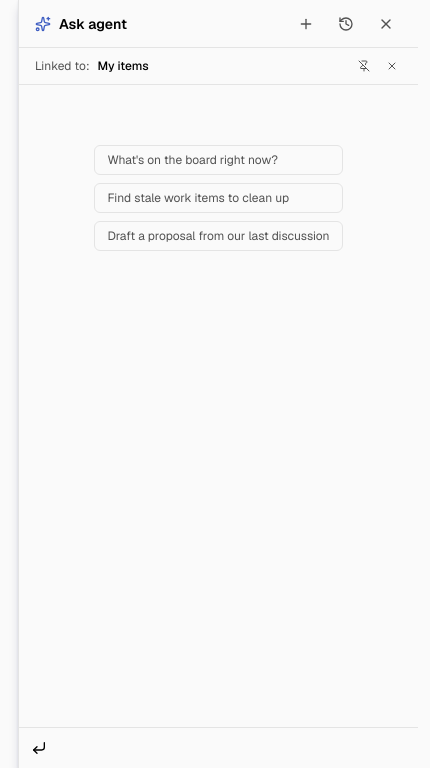
Test: AgentChatPanel › clears the thread list on remount (the shell's org-switch key), no cross-tenant carryover
Click the button named "Sessions".
click(346, 24)  # box [330, 8, 362, 40]
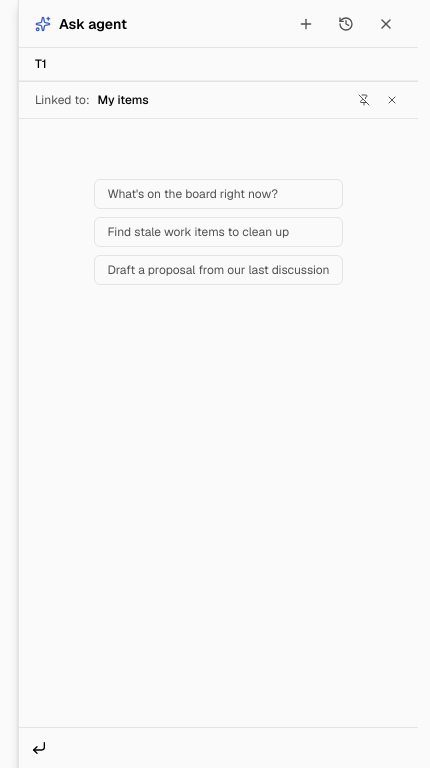
Check: the text "T1" is shown, box [35, 56, 47, 72]
